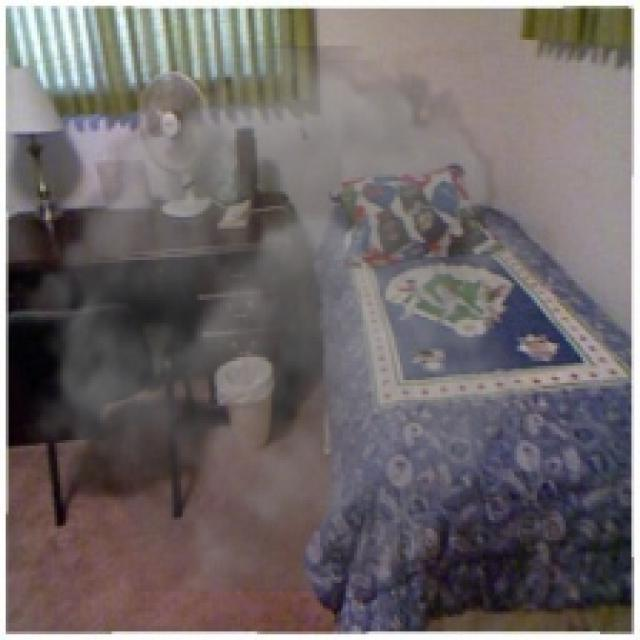Smoke: (2, 46, 558, 592)
